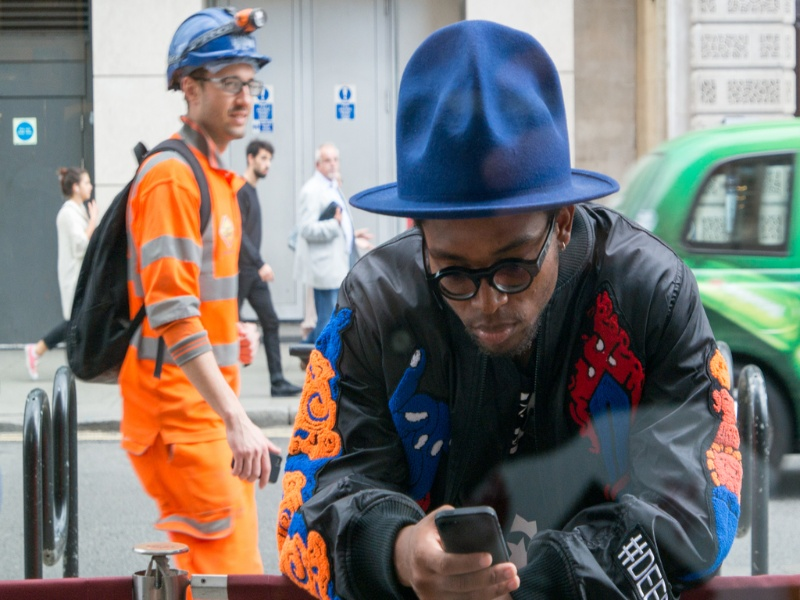helmet: (167, 8, 274, 75)
jacket: (130, 144, 243, 380)
